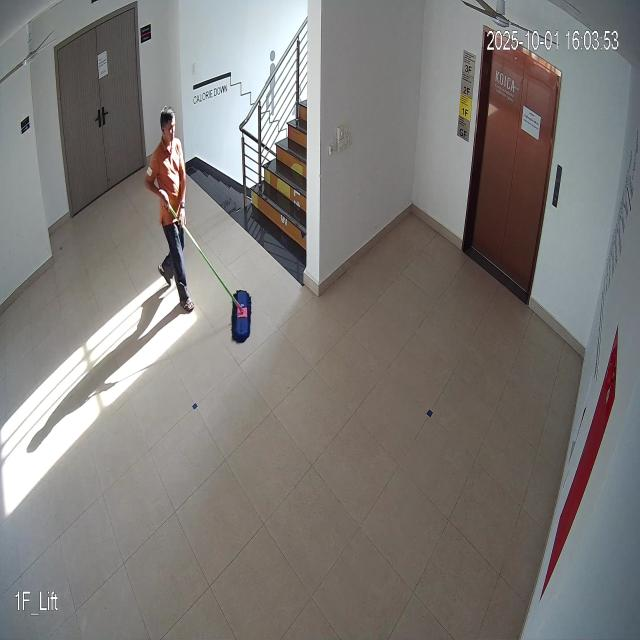face: (157, 103, 178, 148)
